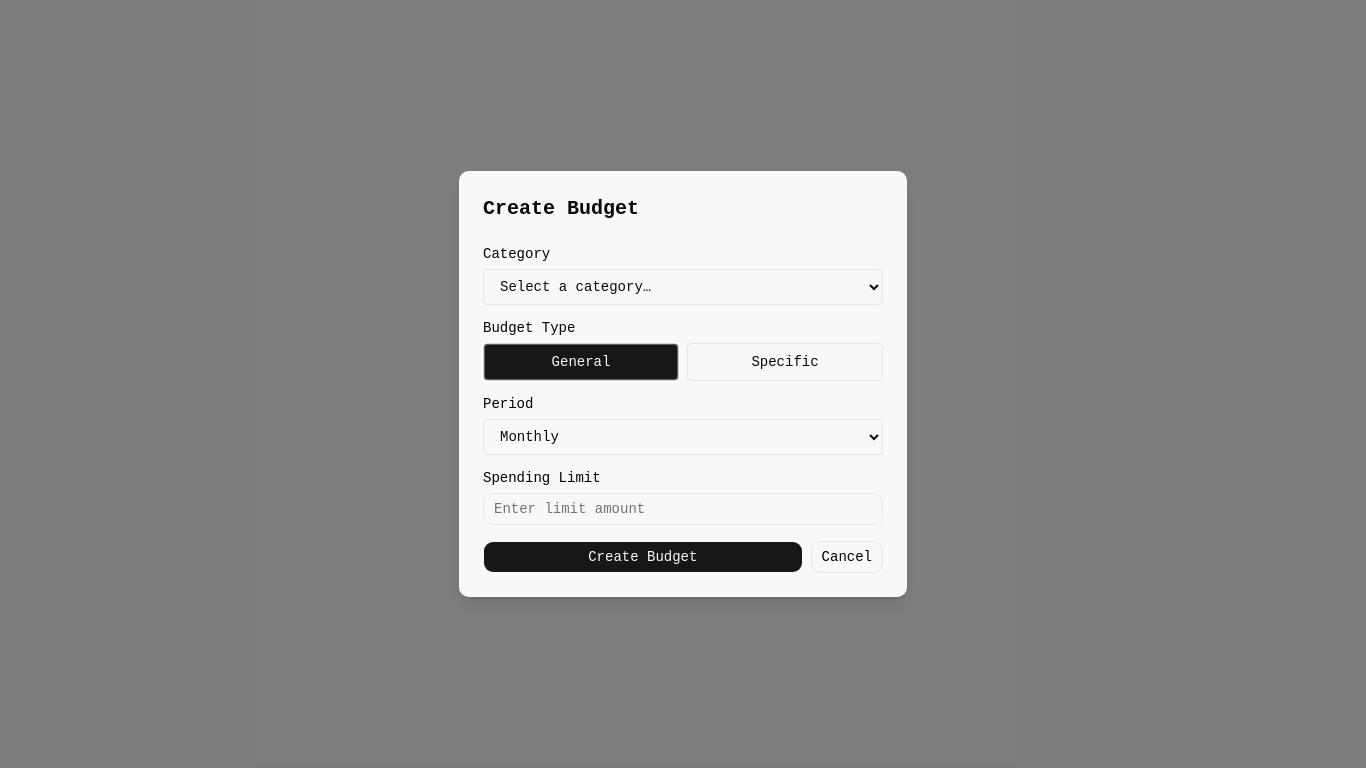
Test: CreateEditBudgetDialog › validation › shows error for empty limit amount
Click the button "Create Budget" at [643, 557], box [483,541,803,573]
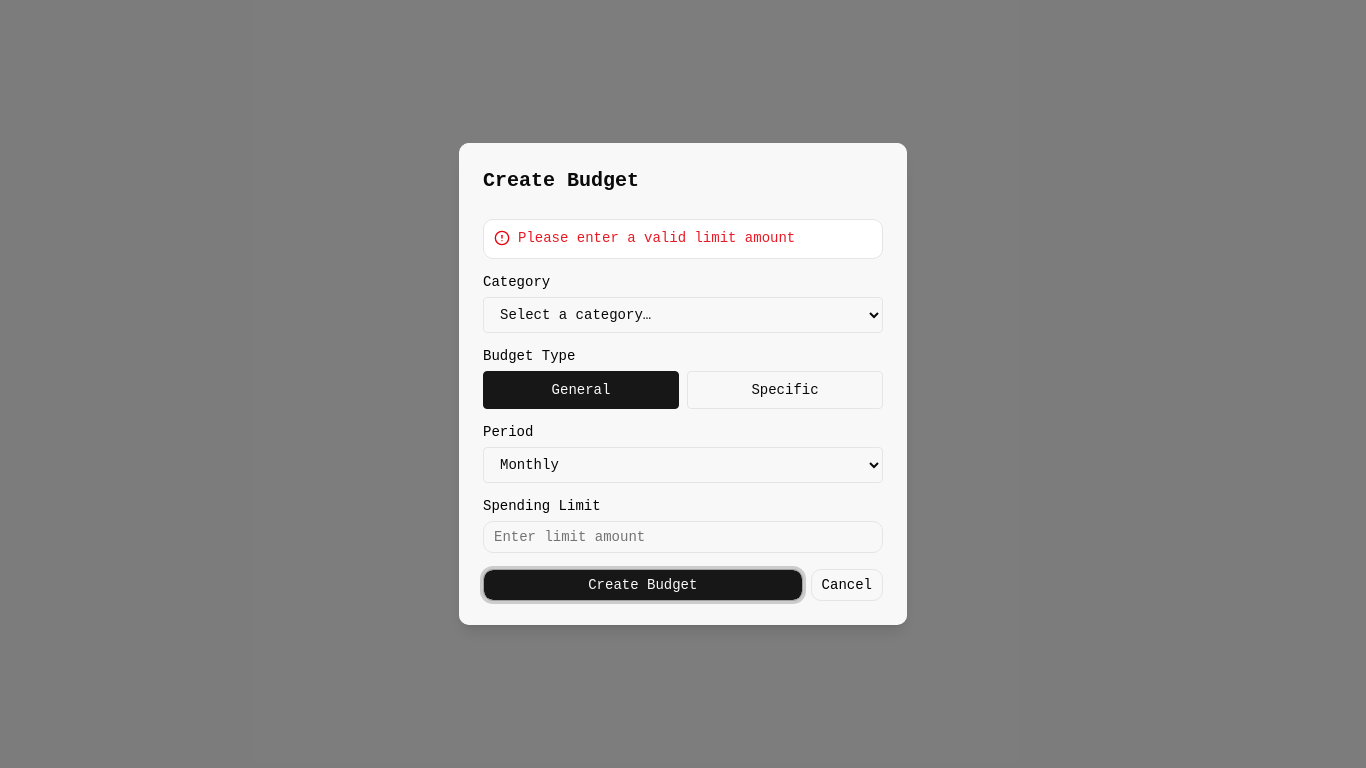
Expected: the text "Please enter a valid limit amount" is shown, [518,230,795,246]
